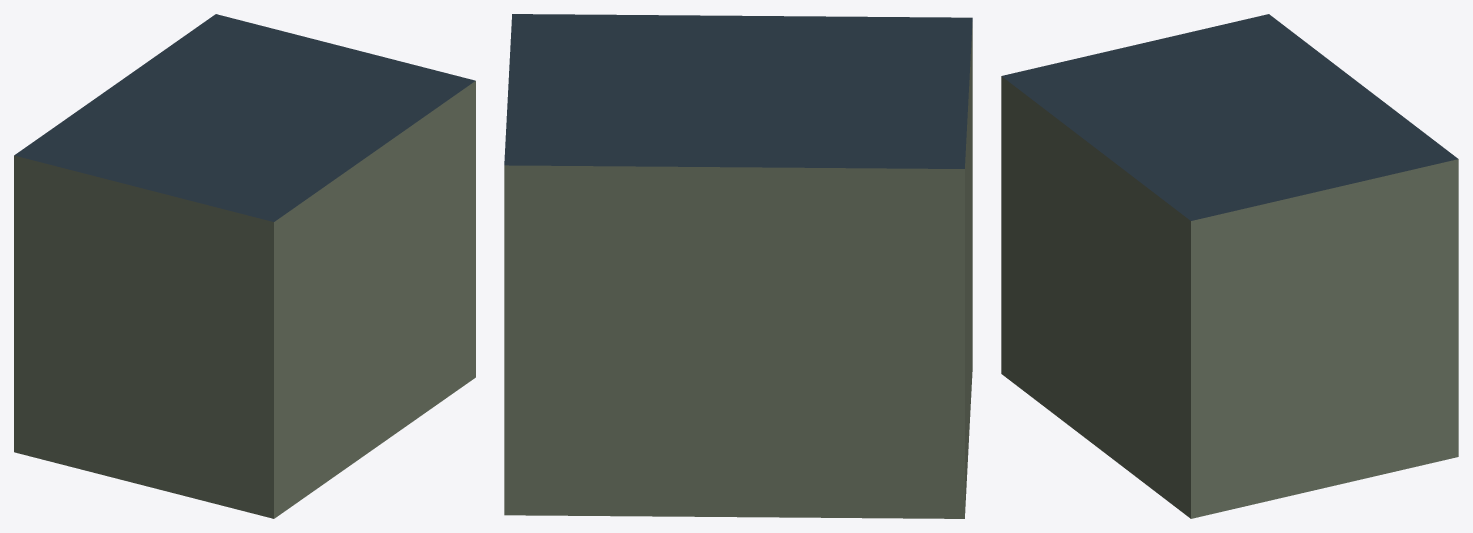
Rendered from nyc-1034201-0.glb.
The picture shows the model from 3 angles, left to right: view 1: azimuth 30°, elevation 25°; view 2: azimuth 150°, elevation 25°; view 3: azimuth 270°, elevation 25°; orthographic projection. The views are drawn at different scales.
Visible parts, largest first — view 1: nyc-1034201-0; view 2: nyc-1034201-0; view 3: nyc-1034201-0.
Boxes of the visible parts, <box> form: nyc-1034201-0: <box>14,14,475,518</box>; nyc-1034201-0: <box>504,14,972,518</box>; nyc-1034201-0: <box>1001,14,1458,518</box>.
Size of the model in its own units: 48.55 by 32.56 by 45.3.
